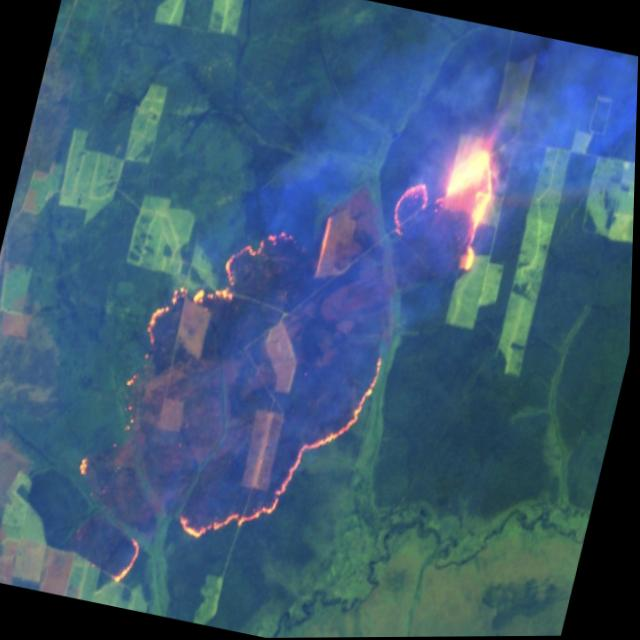fire: (53, 199, 416, 631), (378, 116, 516, 282)
